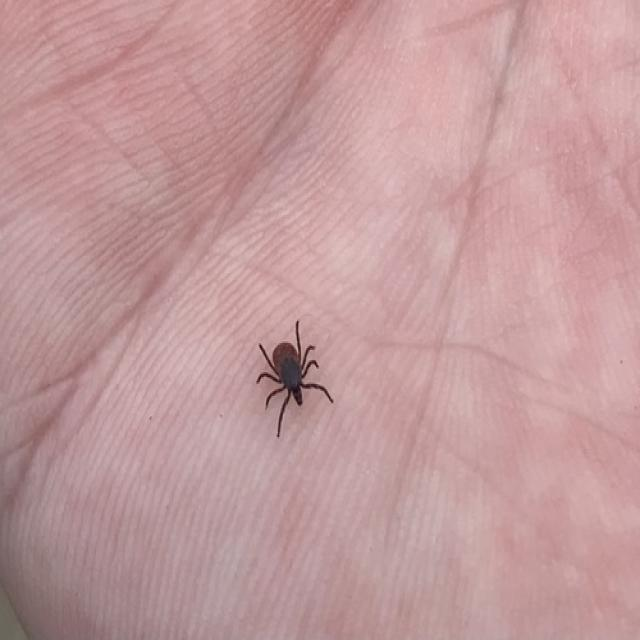Ixodes Ricinus-F: (256, 321, 334, 439)
